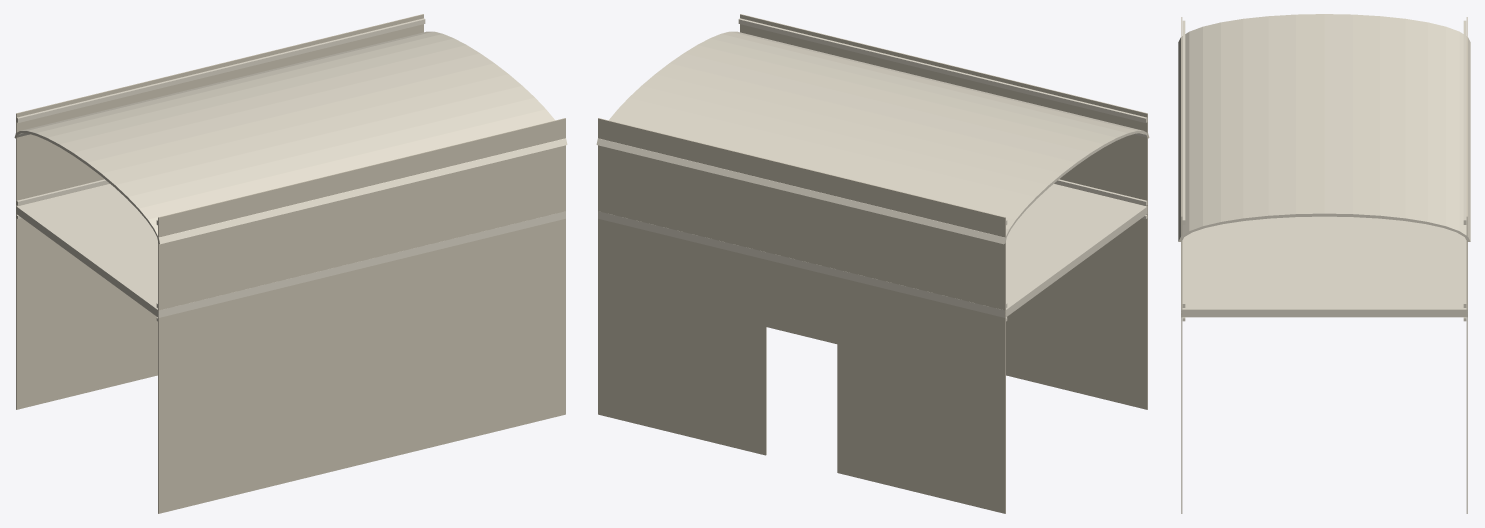
The model's file is VIC_B06_WING_ENVELOPE_Roblox.fbx.
3 views of the same model, side by side, from view 1: azimuth 30°, elevation 25°; view 2: azimuth 150°, elevation 25°; view 3: azimuth 270°, elevation 25° (orthographic).
Parts seen in each view (by area): view 1: VIC_B06_WING_ENVELOPE__Stone, VIC_B06_WING_ENVELOPE__Ivory, VIC_B06_WING_ENVELOPE__Floor__Ivory; view 2: VIC_B06_WING_ENVELOPE__Stone, VIC_B06_WING_ENVELOPE__Ivory, VIC_B06_WING_ENVELOPE__Floor__Ivory; view 3: VIC_B06_WING_ENVELOPE__Ivory, VIC_B06_WING_ENVELOPE__Floor__Ivory, VIC_B06_WING_ENVELOPE__Stone.
Part boxes in pixels (left/top/right/bottom): VIC_B06_WING_ENVELOPE__Stone: left=16, top=14, right=565, bottom=513; VIC_B06_WING_ENVELOPE__Ivory: left=14, top=18, right=567, bottom=321; VIC_B06_WING_ENVELOPE__Floor__Ivory: left=16, top=184, right=565, bottom=317; VIC_B06_WING_ENVELOPE__Stone: left=598, top=14, right=1147, bottom=513; VIC_B06_WING_ENVELOPE__Ivory: left=596, top=18, right=1149, bottom=321; VIC_B06_WING_ENVELOPE__Floor__Ivory: left=598, top=184, right=1147, bottom=317; VIC_B06_WING_ENVELOPE__Ivory: left=1178, top=14, right=1470, bottom=321; VIC_B06_WING_ENVELOPE__Floor__Ivory: left=1181, top=216, right=1467, bottom=317; VIC_B06_WING_ENVELOPE__Stone: left=1181, top=17, right=1467, bottom=513.
Size of the model in its own units: 57 by 40 by 35.3.
